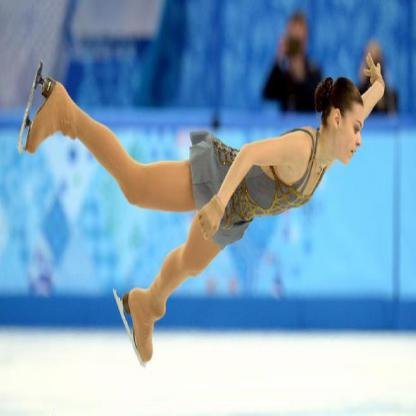Fall_Down: (24, 52, 387, 362)
